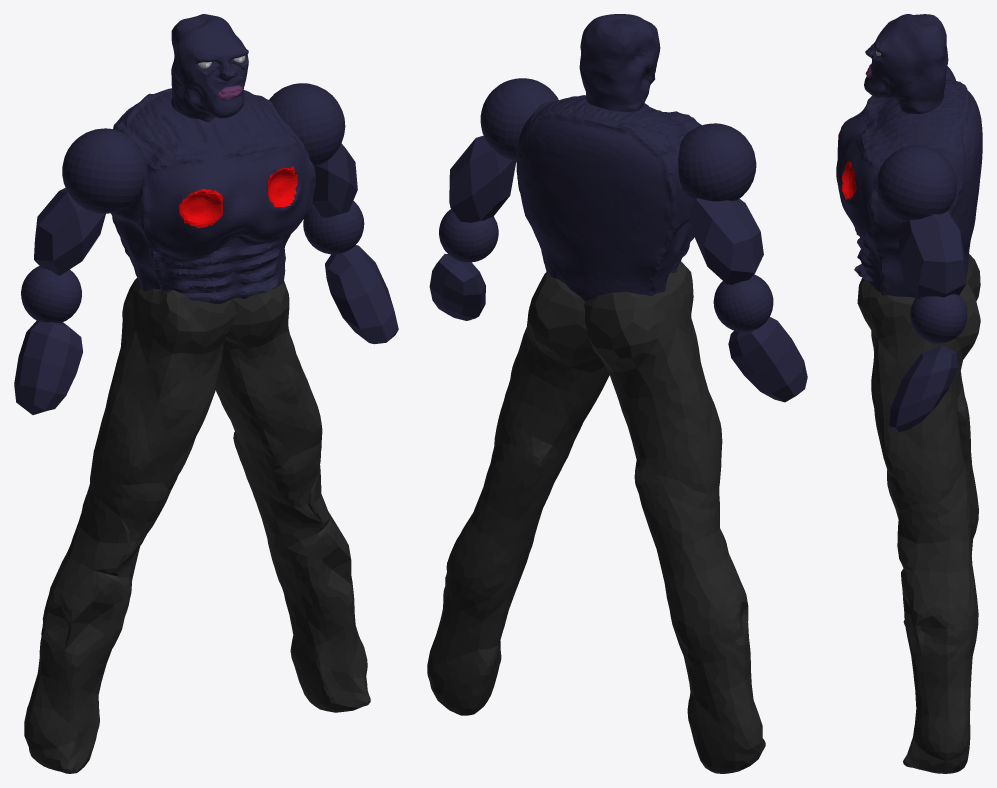
Rendered from Big Guy.fbx.
3 views of the same model, side by side, from view 1: azimuth 30°, elevation 25°; view 2: azimuth 150°, elevation 25°; view 3: azimuth 270°, elevation 25° (orthographic). The views are drawn at different scales.
Visible parts, largest first — view 1: Left Leg.001, Chest, Left Leg, Head, Right Shoulder, Right Forearm, Left Forearm, Right Upper Arm, Left Shoulder, Right Elbow, Upper Left Arm, Left Elbow; view 2: Left Leg.001, Left Leg, Chest, Head, Right Shoulder, Right Upper Arm, Right Forearm, Upper Left Arm, Left Shoulder, Left Forearm, Right Elbow, Left Elbow; view 3: Left Leg, Chest, Head, Upper Left Arm, Left Shoulder, Left Forearm, Left Elbow, Left Leg.001.
Boxes of the visible parts, box(x1,y1,x2,y2) form: Left Leg.001: box(24, 278, 236, 773); Chest: box(111, 88, 315, 304); Left Leg: box(215, 281, 370, 712); Head: box(171, 14, 248, 122); Right Shoulder: box(62, 128, 145, 213); Right Forearm: box(14, 320, 82, 414); Left Forearm: box(325, 245, 398, 344); Right Upper Arm: box(34, 188, 105, 275); Left Shoulder: box(269, 83, 345, 166); Right Elbow: box(21, 266, 81, 322); Upper Left Arm: box(311, 143, 357, 217); Left Elbow: box(303, 201, 364, 254); Left Leg.001: box(584, 261, 765, 773); Left Leg: box(427, 272, 609, 715); Chest: box(516, 95, 701, 301); Head: box(579, 14, 660, 111); Right Shoulder: box(678, 123, 756, 201); Right Upper Arm: box(689, 198, 763, 284); Right Forearm: box(728, 317, 807, 402); Upper Left Arm: box(449, 135, 516, 222); Left Shoulder: box(480, 78, 558, 160); Left Forearm: box(429, 254, 485, 320); Right Elbow: box(713, 274, 773, 332); Left Elbow: box(439, 209, 498, 262); Left Leg: box(857, 278, 980, 773); Chest: box(836, 79, 982, 297); Head: box(864, 14, 948, 113); Upper Left Arm: box(898, 211, 966, 298); Left Shoulder: box(877, 145, 956, 222); Left Forearm: box(889, 345, 957, 432); Left Elbow: box(910, 294, 967, 343); Left Leg.001: box(871, 254, 980, 625).
Size of the model in its own units: 146 by 272 by 52.51.
